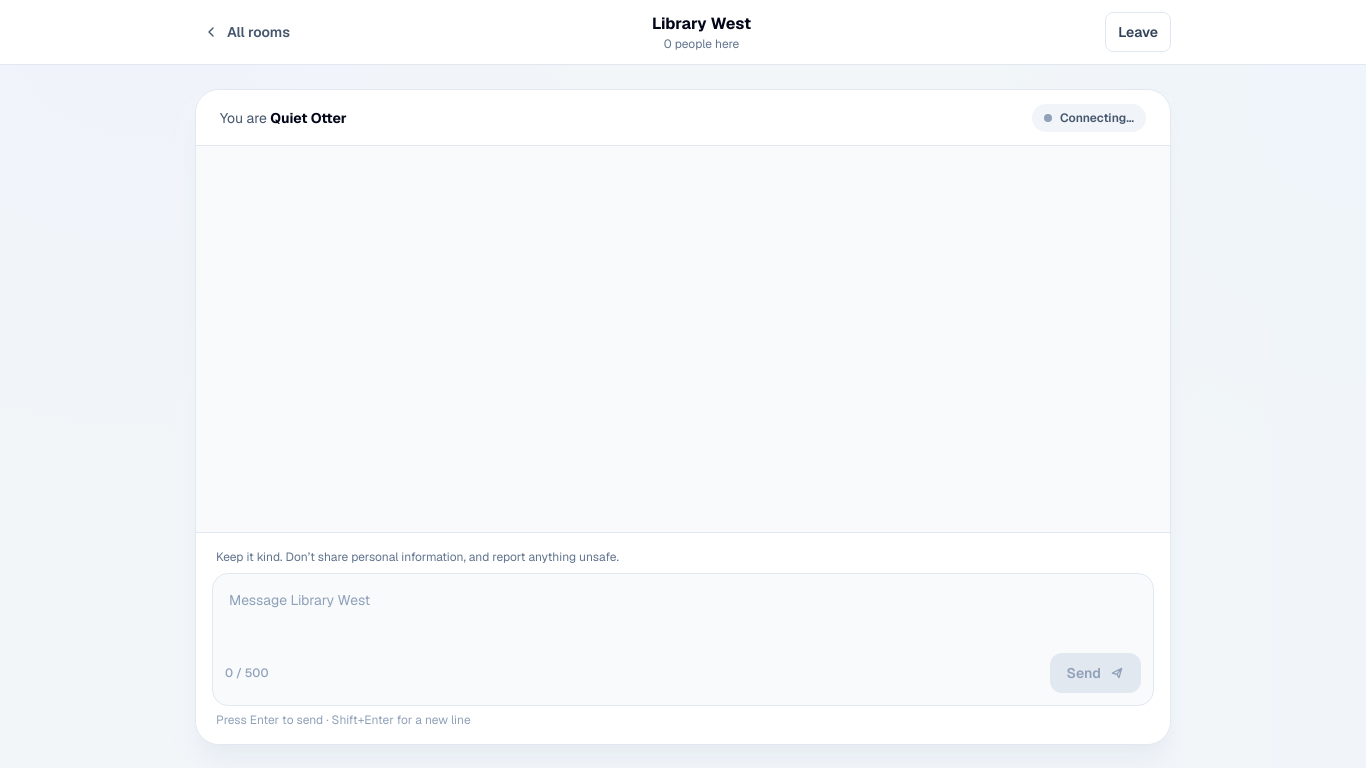
Test: sends through the API and shows the message once, even after its broadcast
This screenshot has width=1366, height=768.
Check: the text "You are Quiet Otter" is shown, box left=220, top=108, right=347, bottom=128
In the text box labelled "Message Library West": [683, 614] box left=221, top=582, right=1145, bottom=646, type "  hello there  "
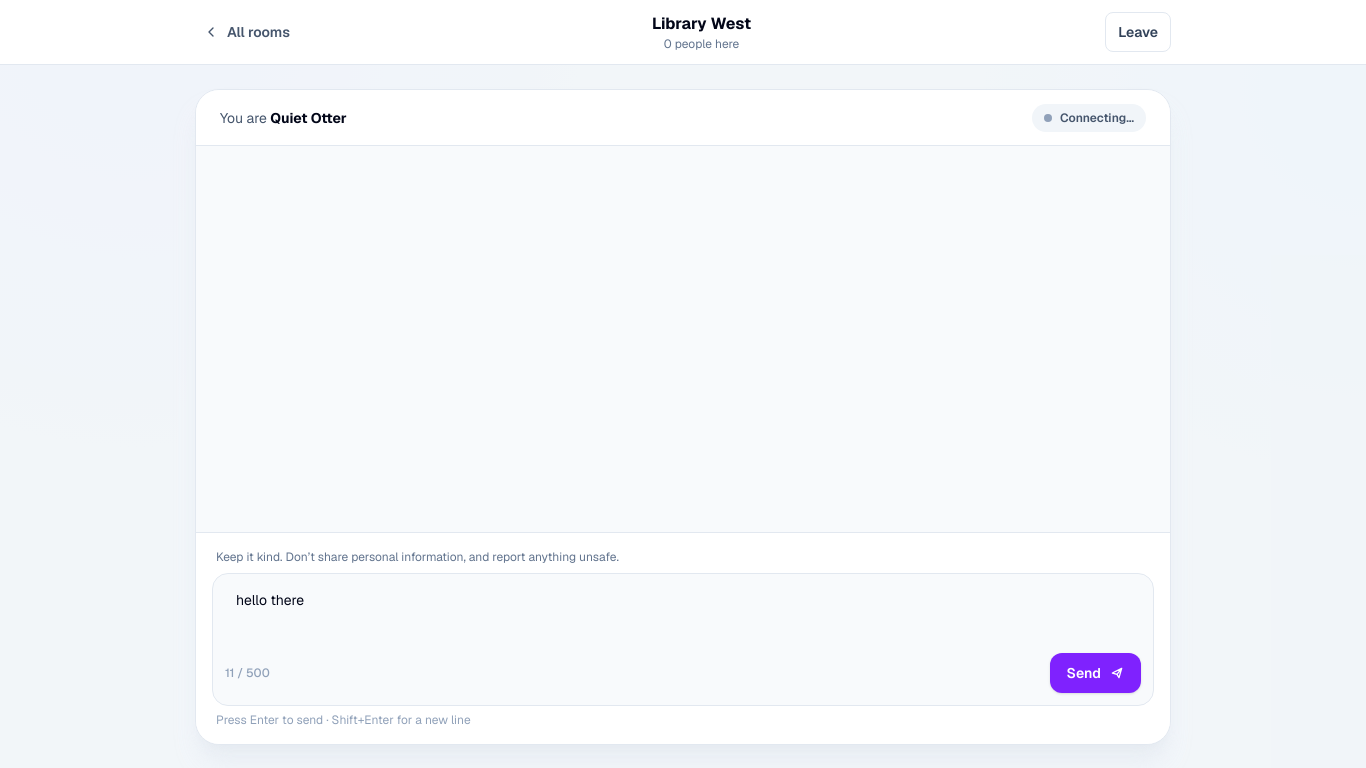
Press Enter in the text box named "Message Library West", box left=221, top=582, right=1145, bottom=646
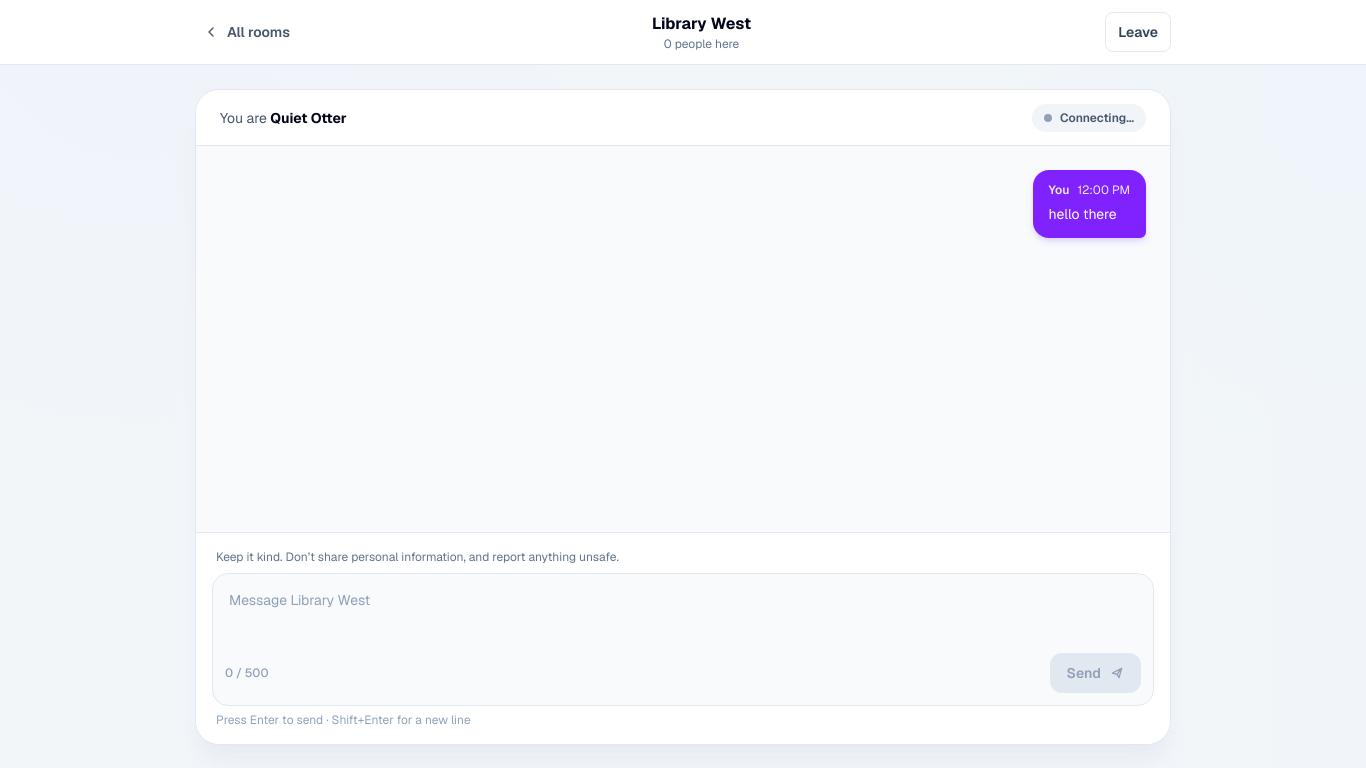
Check: the text "hello there" is shown once, box left=1049, top=205, right=1117, bottom=223
